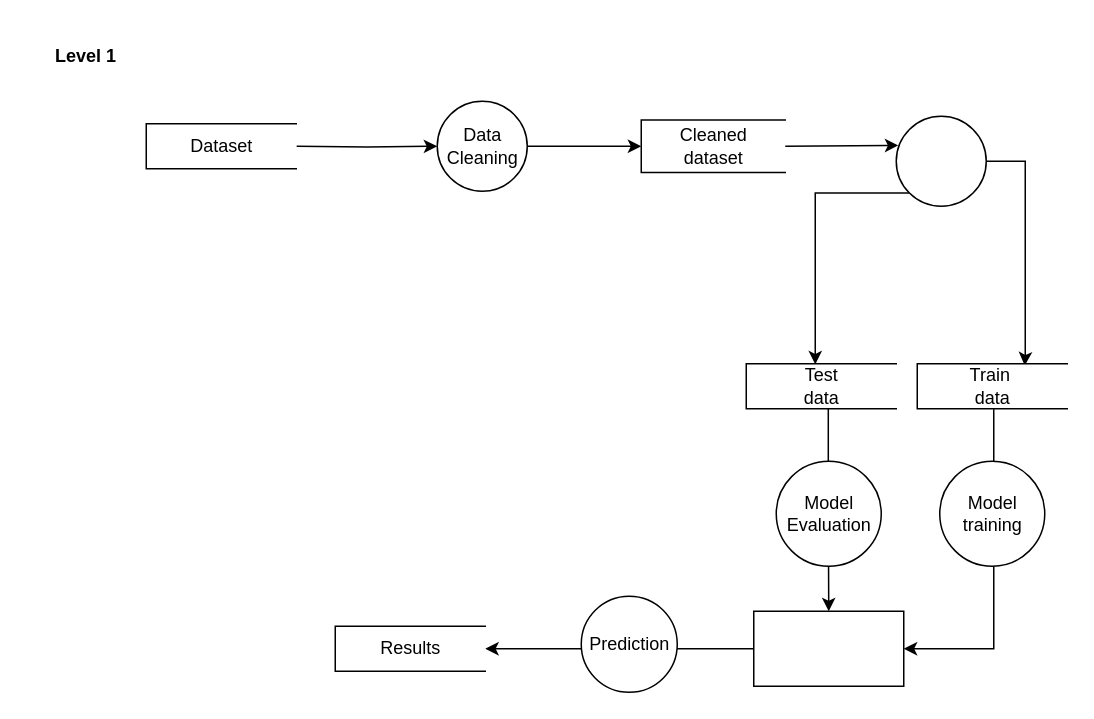
This 1094x719 diagram has some shape labels left out. The centre of each missing label's shape, as x and y in pixels:
"Data splitting" belongs at pixel 940 160.
"Model" belongs at pixel 828 648.
